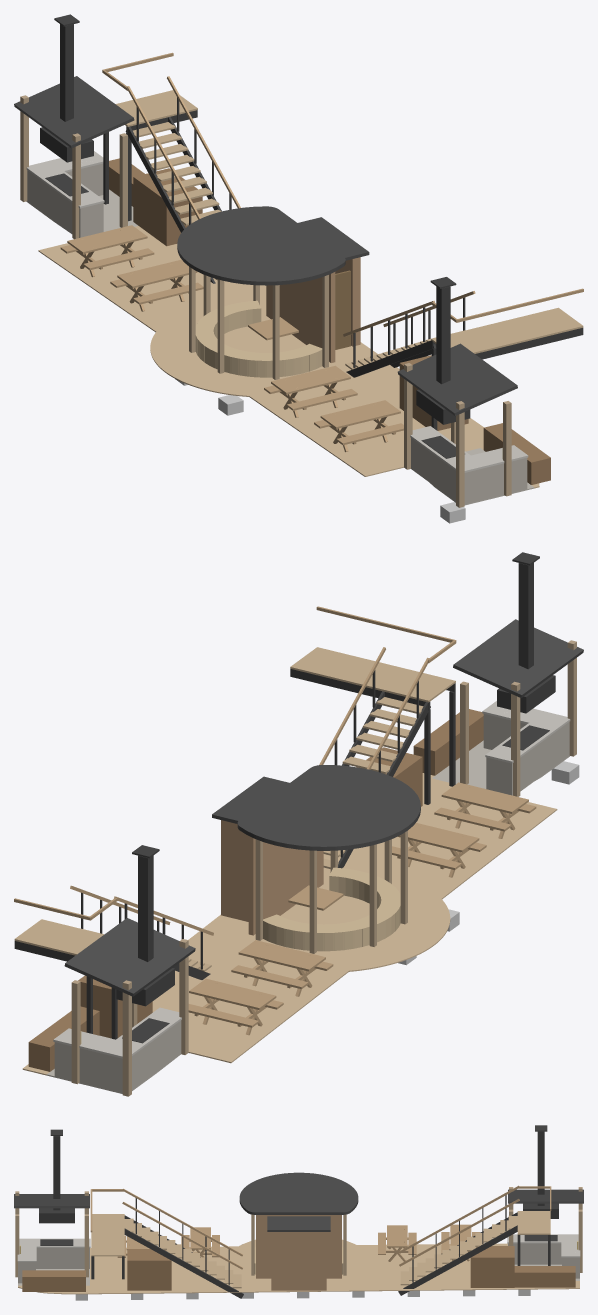
File: deck_t4.glb
3 views of the same model, one above another, from view 1: azimuth 30°, elevation 25°; view 2: azimuth 150°, elevation 25°; view 3: azimuth 270°, elevation 25° (orthographic). The views are drawn at different scales.
Parts seen in each view (by area): view 1: decking, lounge_roof, s1_roof, s2_roof, lounge_back_wall, cabin1_bridge_deck, cabin2_understair_store, s2_west_leg_base, s1_west_leg_base, s1_wood_store, s1_flue, cabin2_bridge_deck (+26 smaller); view 2: decking, lounge_roof, s2_roof, s1_roof, cabin1_bridge_deck, lounge_back_wall, s1_west_leg_base, bath_wall_n, s2_west_leg_base, s1_wood_store, cabin2_bridge_deck, s1_flue (+30 smaller); view 3: decking, lounge_roof, bath_wall_e, lounge_back_wall, cabin1_understair_store, cabin2_understair_store, cabin1_bridge_deck, s1_wood_store, s2_wood_store, s1_roof, s2_roof, s1_west_leg_base (+25 smaller).
Part boxes in pixels (<box>): decking: <box>38,226,539,488</box>; lounge_roof: <box>177,206,345,285</box>; s1_roof: <box>397,343,517,415</box>; s2_roof: <box>14,76,134,148</box>; lounge_back_wall: <box>266,272,335,362</box>; cabin1_bridge_deck: <box>431,307,583,353</box>; cabin2_understair_store: <box>133,168,202,246</box>; s2_west_leg_base: <box>27,170,103,237</box>; s1_west_leg_base: <box>411,438,483,504</box>; s1_wood_store: <box>483,423,550,484</box>; s1_flue: <box>436,286,450,384</box>; cabin2_bridge_deck: <box>115,90,197,126</box>; decking: <box>22,773,557,1075</box>; lounge_roof: <box>237,765,420,850</box>; s2_roof: <box>64,918,195,996</box>; s1_roof: <box>453,619,583,697</box>; cabin1_bridge_deck: <box>290,647,455,702</box>; lounge_back_wall: <box>248,836,323,935</box>; s1_west_leg_base: <box>486,722,569,795</box>; bath_wall_n: <box>221,820,248,921</box>; s2_west_leg_base: <box>101,1020,181,1092</box>; s1_wood_store: <box>413,709,483,775</box>; cabin2_bridge_deck: <box>14,919,103,955</box>; s1_flue: <box>518,563,533,669</box>; decking: <box>18,1239,579,1294</box>; lounge_roof: <box>239,1172,358,1214</box>; bath_wall_e: <box>271,1232,323,1290</box>; lounge_back_wall: <box>256,1215,341,1278</box>; cabin1_understair_store: <box>127,1249,171,1290</box>; cabin2_understair_store: <box>470,1246,514,1287</box>; cabin1_bridge_deck: <box>91,1214,124,1256</box>; s1_wood_store: <box>22,1270,85,1291</box>; s2_wood_store: <box>514,1266,575,1287</box>; s1_roof: <box>14,1194,89,1208</box>; s2_roof: <box>508,1189,583,1203</box>; s1_west_leg_base: <box>36,1248,89,1268</box>.
Size of the model in its own units: 7.3 by 5.75 by 20.6.
